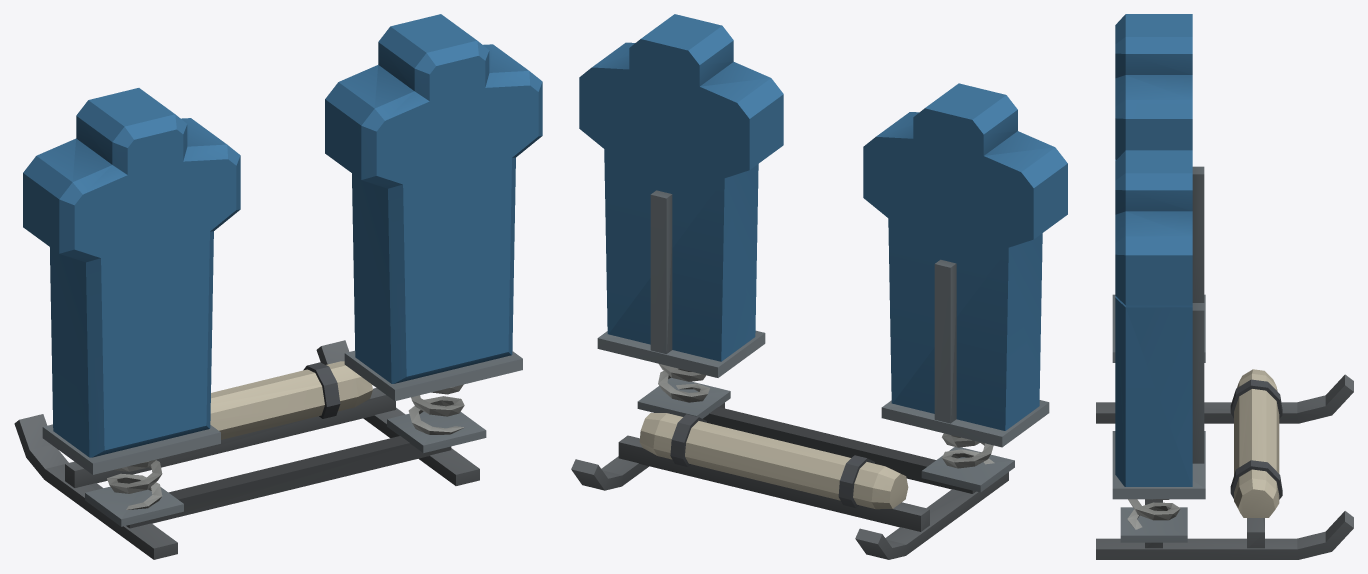
The model's file is sled.glb.
3 renders of one model, left to right at view 1: azimuth 30°, elevation 25°; view 2: azimuth 150°, elevation 25°; view 3: azimuth 270°, elevation 25°, orthographic. The views are drawn at different scales.
Visible parts, largest first — view 1: sled; view 2: sled; view 3: sled.
Boxes of the visible parts, box(x1,y1,x2,y2) form: sled: box(14, 14, 542, 559); sled: box(571, 14, 1067, 559); sled: box(1096, 14, 1353, 559).
Bounding box in the file's own units: 2.6 × 2.18 × 1.3.
